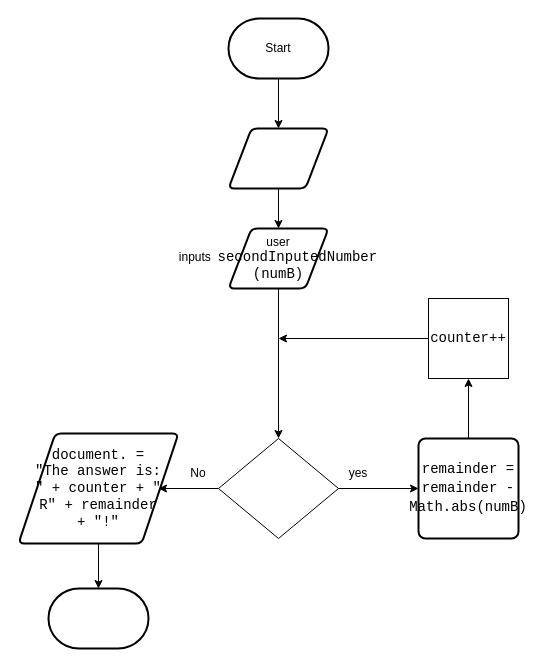
Image size: 544x666. Some labels were removed from this diagram. Here are the shapes that lost their labels. From the top down, the centre of each, then its label:
At point 278,158: "user inputs firstInputedNumber ( remainder)".
At point 278,488: "while (remainder >= Math.abs(numB))".
At point 98,618: "Stop".
